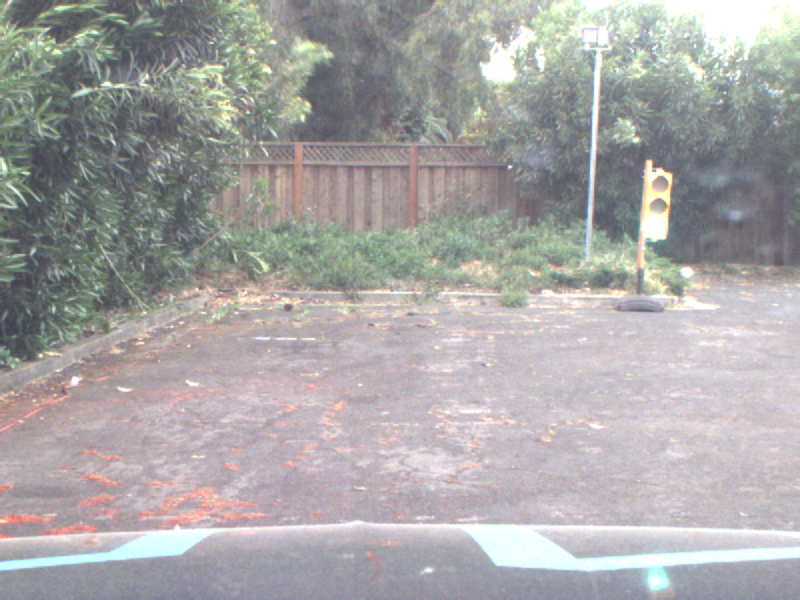Green: (644, 169, 670, 240)
